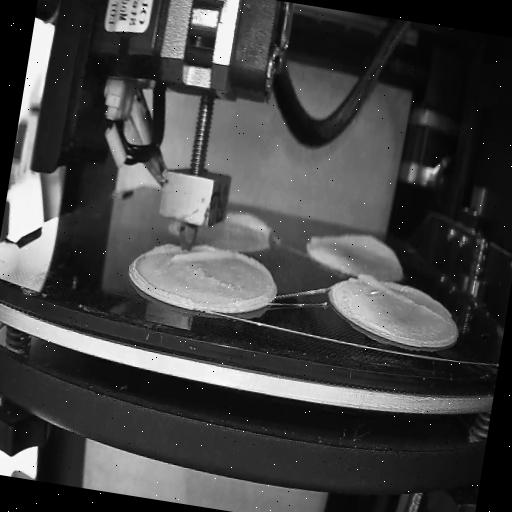over_extrusion: (352, 268, 448, 321), (306, 224, 402, 264), (150, 234, 232, 274), (227, 249, 278, 309), (222, 208, 276, 246)
